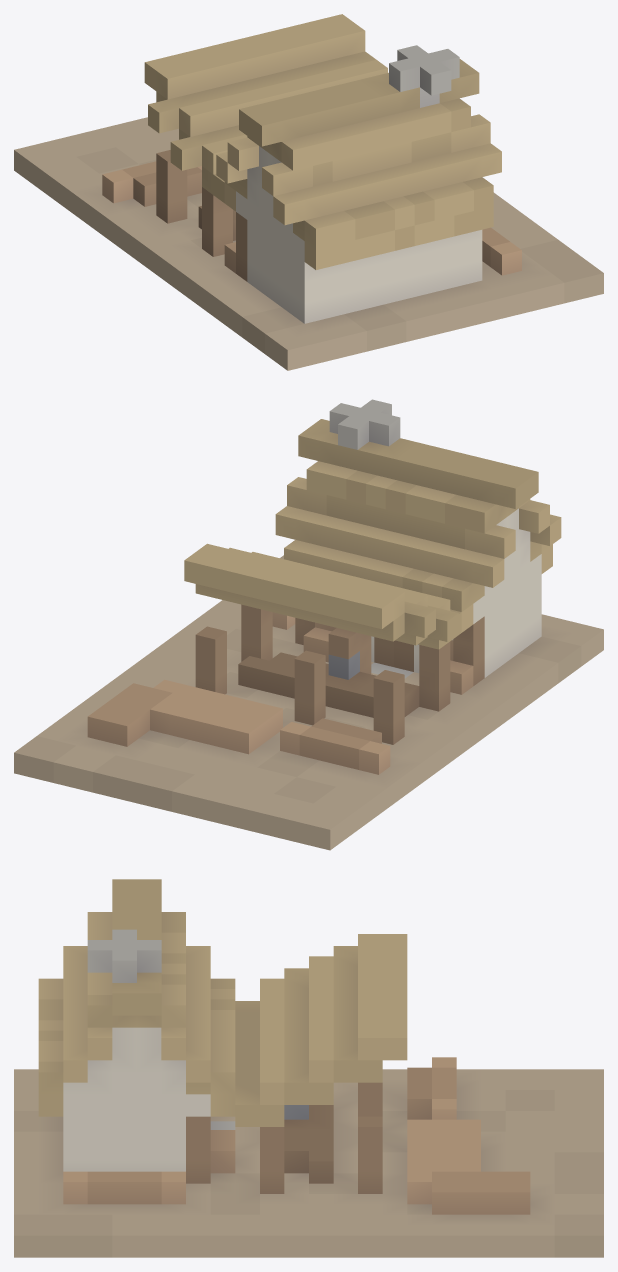
File: sawmill.lite.glb
The picture shows the model from 3 angles, top to bottom: view 1: azimuth 30°, elevation 25°; view 2: azimuth 150°, elevation 25°; view 3: azimuth 270°, elevation 25°; orthographic projection. The views are drawn at different scales.
Visible parts, largest first — view 1: sawmill; view 2: sawmill; view 3: sawmill.
Part boxes in pixels (x1=…): sawmill: x1=14, y1=14, x2=603, y2=370; sawmill: x1=14, y1=399, x2=603, y2=850; sawmill: x1=14, y1=879, x2=603, y2=1257.
Size of the model in its own units: 4 by 2.75 by 6.
